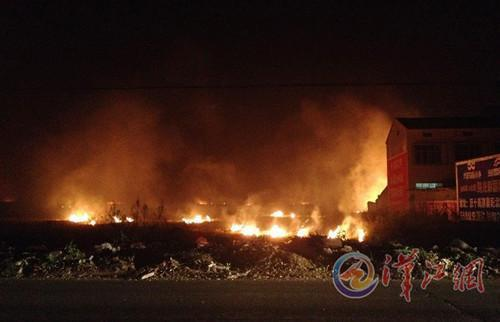fire: (183, 201, 374, 243), (54, 188, 137, 225)
